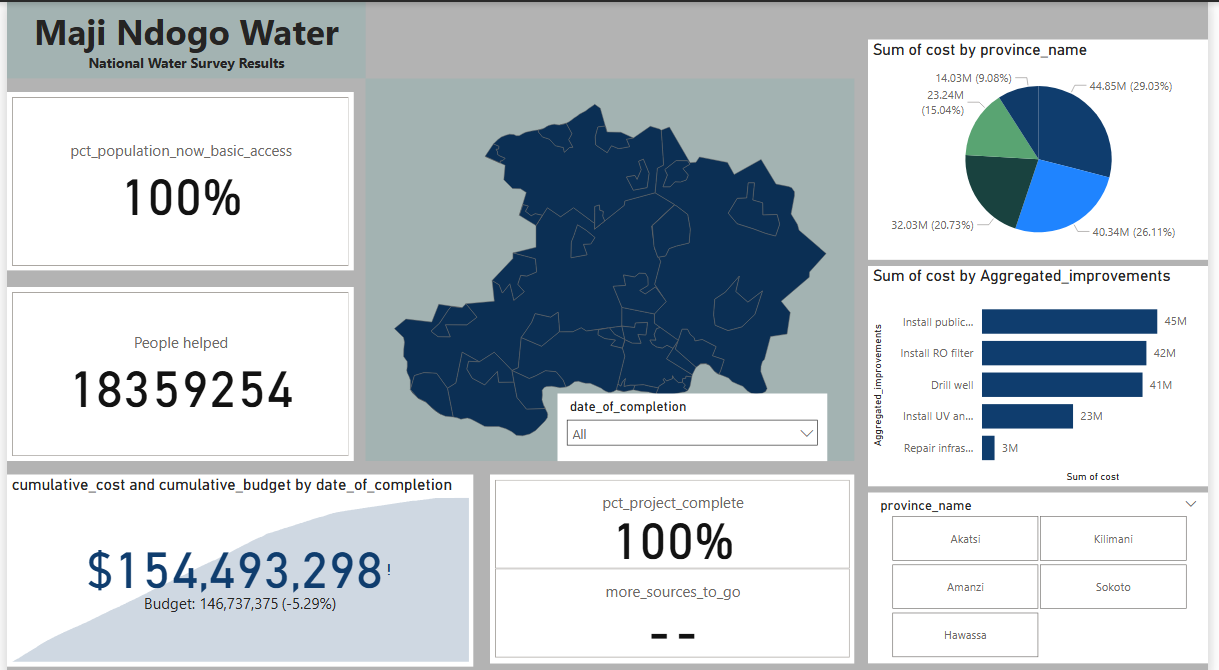

What the dashboard file says about the page in this screenshot:
{"tool":"powerbi","page":{"name":"NATIONAL","canvas":[1280,720],"ordinal":0},"visuals":[{"type":"shapeMap","title":"Water Source By Province","fields":{"Category":["project_progress.town"],"Value":["project_progress.pct_project_complete"]},"box":[381.8,81.5,520.8,407.4],"z":0},{"type":"textbox","box":[0,0,381.8,81.5],"z":1000},{"type":"cardVisual","fields":{"Data":["project_progress.pct_project_complete","project_progress.more_sources_to_go"]},"box":[514.4,503.3,388.2,201.3],"z":2000},{"type":"slicer","fields":{"Values":["project_progress.date_of_completion"]},"box":[586.3,417,287.6,71.9],"z":3000},{"type":"kpi","fields":{"Goal":["project_progress.cumulative_budget"],"TrendLine":["project_progress.date_of_completion"],"Indicator":["project_progress.cumulative_cost"]},"box":[0,503.3,496.9,204.5],"z":4000},{"type":"cardVisual","fields":{"Data":["water_source.pct_population_now_basic_access"]},"box":[0,95.9,369.1,190.1],"z":5000},{"type":"cardVisual","fields":{"Data":["water_source.population_now_basic_access"]},"box":[0,303.6,369.1,185.3],"z":6000},{"type":"pieChart","fields":{"Y":["Sum(project_progress.cost)"],"Category":["location.province_name"]},"box":[917.1,39.9,362.7,234.9],"z":7000},{"type":"clusteredBarChart","fields":{"Category":["project_progress.Aggregated_improvements"],"Y":["Sum(project_progress.cost)"]},"box":[917.1,281.5,362.7,234.9],"z":8000},{"type":"slicer","fields":{"Values":["location.province_name"]},"box":[917,523,363,182],"z":9000}]}

Visuals, with their boxes in screenshot pixels (x1, y1, x2, y2), scaled from the page's 1280x720 canvas onto the 1219x670 screenshot:
"Water Source By Province" shapeMap: bbox=[364, 76, 860, 455]
textbox: bbox=[0, 0, 364, 76]
cardVisual - project_progress.pct_project_complete x project_progress.more_sources_to_go: bbox=[490, 468, 860, 656]
slicer - project_progress.date_of_completion: bbox=[558, 388, 832, 455]
kpi - project_progress.cumulative_budget x project_progress.date_of_completion: bbox=[0, 468, 473, 659]
cardVisual - water_source.pct_population_now_basic_access: bbox=[0, 89, 352, 266]
cardVisual - water_source.population_now_basic_access: bbox=[0, 283, 352, 455]
pieChart - Sum(project_progress.cost) x location.province_name: bbox=[873, 37, 1218, 256]
clusteredBarChart - project_progress.Aggregated_improvements x Sum(project_progress.cost): bbox=[873, 262, 1218, 481]
slicer - location.province_name: bbox=[873, 487, 1218, 656]
